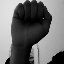a: (10, 1, 53, 37)
